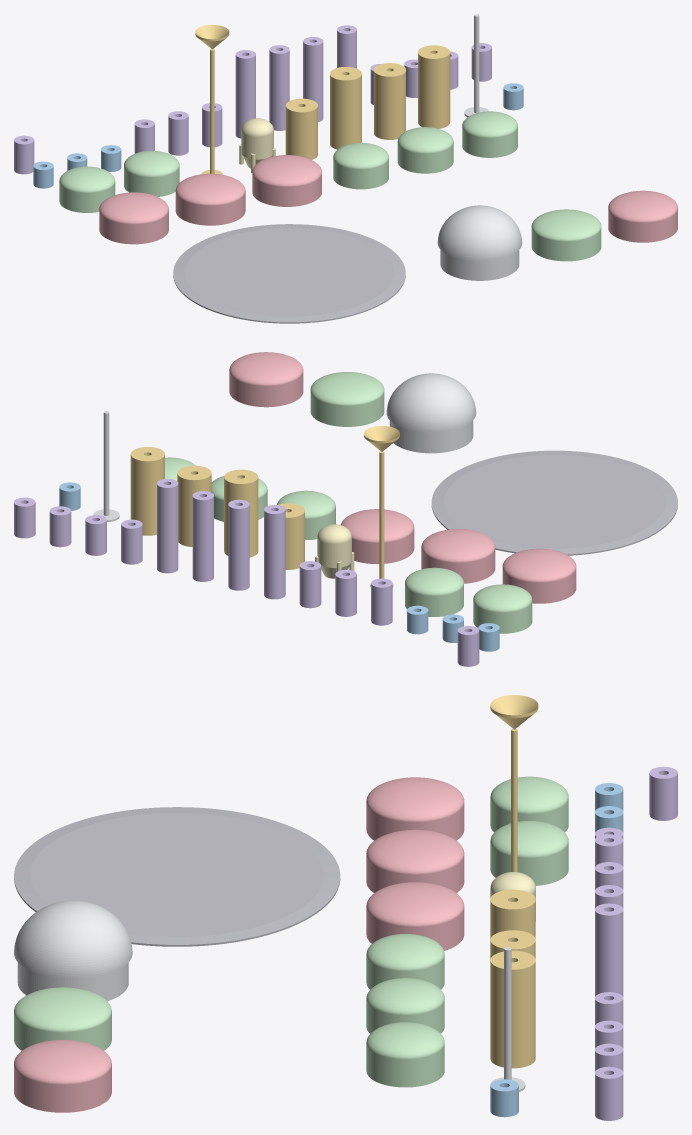
File: project3_moon_base_kit.glb
The picture shows the model from 3 angles, top to bottom: view 1: azimuth 30°, elevation 25°; view 2: azimuth 150°, elevation 25°; view 3: azimuth 270°, elevation 25°; orthographic projection. The views are drawn at different scales.
Visible parts, largest first — view 1: 28_Landing_Pad, 01_Core, 11_Node_Quarters_Vestibule, 14_SleepDome_Quarters3, 12_SleepDome_Quarters1, 13_SleepDome_Quarters2, 15_SleepDome_Quarters4, 05_Module_Wellness, 03_Module_Lab, 04_Module_Greenhouse, 07_Node_Maintenance, 06_Node_Command (+20 smaller); view 2: 28_Landing_Pad, 01_Core, 12_SleepDome_Quarters1, 11_Node_Quarters_Vestibule, 13_SleepDome_Quarters2, 14_SleepDome_Quarters3, 15_SleepDome_Quarters4, 09_Node_Recreation_Commons, 05_Module_Wellness, 10_Node_CrewSupport_Hygiene2, 22_Hallway_L4_G_to_H, 19_Hallway_L1_N_to_R (+22 smaller); view 3: 28_Landing_Pad, 01_Core, 12_SleepDome_Quarters1, 15_SleepDome_Quarters4, 14_SleepDome_Quarters3, 13_SleepDome_Quarters2, 11_Node_Quarters_Vestibule, 08_Node_Medical_StormShelter, 05_Module_Wellness, 10_Node_CrewSupport_Hygiene2, 07_Node_Maintenance, 06_Node_Command (+17 smaller).
Boxes of the visible parts, bbox=[...] form: 28_Landing_Pad: bbox=[173, 224, 405, 323]; 01_Core: bbox=[437, 205, 522, 280]; 11_Node_Quarters_Vestibule: bbox=[531, 209, 601, 261]; 14_SleepDome_Quarters3: bbox=[175, 173, 245, 225]; 12_SleepDome_Quarters1: bbox=[608, 190, 677, 242]; 13_SleepDome_Quarters2: bbox=[99, 192, 168, 244]; 15_SleepDome_Quarters4: bbox=[252, 155, 321, 206]; 05_Module_Wellness: bbox=[418, 45, 450, 128]; 03_Module_Lab: bbox=[330, 67, 361, 149]; 04_Module_Greenhouse: bbox=[374, 63, 405, 139]; 07_Node_Maintenance: bbox=[397, 127, 453, 173]; 06_Node_Command: bbox=[333, 143, 388, 189]; 28_Landing_Pad: bbox=[431, 450, 677, 555]; 01_Core: bbox=[386, 373, 476, 453]; 12_SleepDome_Quarters1: bbox=[229, 352, 303, 407]; 11_Node_Quarters_Vestibule: bbox=[310, 372, 384, 426]; 13_SleepDome_Quarters2: bbox=[502, 548, 576, 603]; 14_SleepDome_Quarters3: bbox=[421, 529, 495, 583]; 15_SleepDome_Quarters4: bbox=[340, 509, 414, 564]; 09_Node_Recreation_Commons: bbox=[473, 584, 532, 633]; 05_Module_Wellness: bbox=[130, 447, 164, 535]; 10_Node_CrewSupport_Hygiene2: bbox=[405, 567, 463, 616]; 22_Hallway_L4_G_to_H: bbox=[157, 478, 178, 573]; 19_Hallway_L1_N_to_R: bbox=[264, 505, 285, 599]; 28_Landing_Pad: bbox=[14, 807, 340, 946]; 01_Core: bbox=[14, 900, 132, 1001]; 12_SleepDome_Quarters1: bbox=[14, 1040, 111, 1112]; 15_SleepDome_Quarters4: bbox=[366, 882, 464, 950]; 14_SleepDome_Quarters3: bbox=[366, 829, 464, 892]; 13_SleepDome_Quarters2: bbox=[366, 777, 464, 840]; 11_Node_Quarters_Vestibule: bbox=[14, 987, 111, 1050]; 08_Node_Medical_StormShelter: bbox=[366, 1022, 444, 1087]; 05_Module_Wellness: bbox=[490, 950, 535, 1068]; 10_Node_CrewSupport_Hygiene2: bbox=[490, 821, 568, 885]; 07_Node_Maintenance: bbox=[366, 978, 444, 1033]; 06_Node_Command: bbox=[366, 934, 444, 989].
Size of the model in its own units: 453 by 137 by 407.
